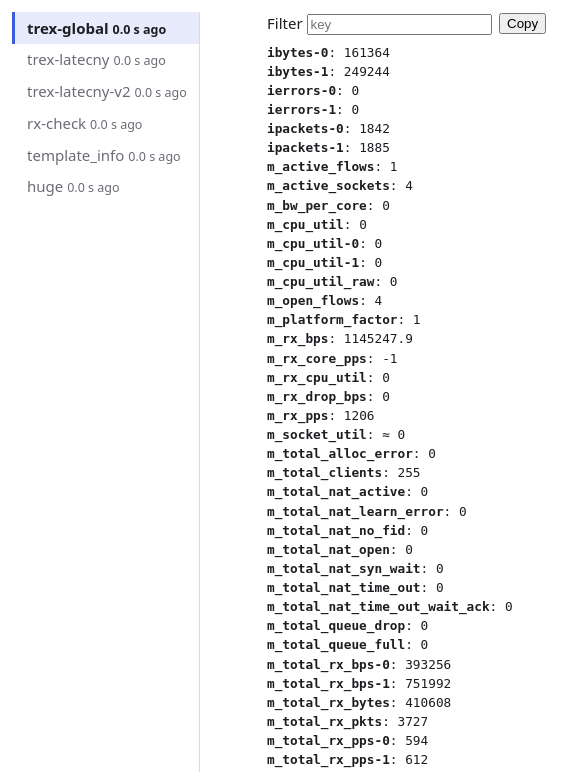
MonitorInspector › truncated entry says so
This screenshot has width=563, height=772.
Click the tab "huge 0.0 s ago": (105, 187) [12,171,199,203]
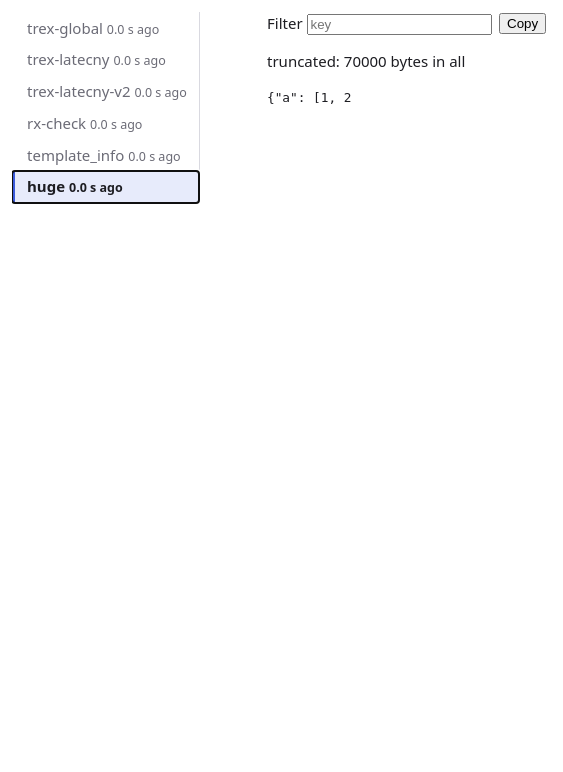
Now the text "truncated: 70000 bytes in all" is shown, box [267,51,465,71]
Now the text "{\"a\": [1, 2" is shown, box [267,90,352,104]
